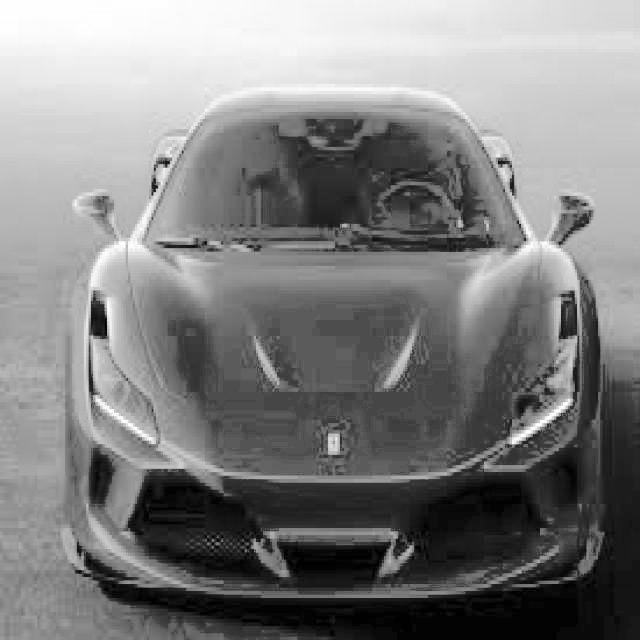Car: (74, 82, 612, 622)
